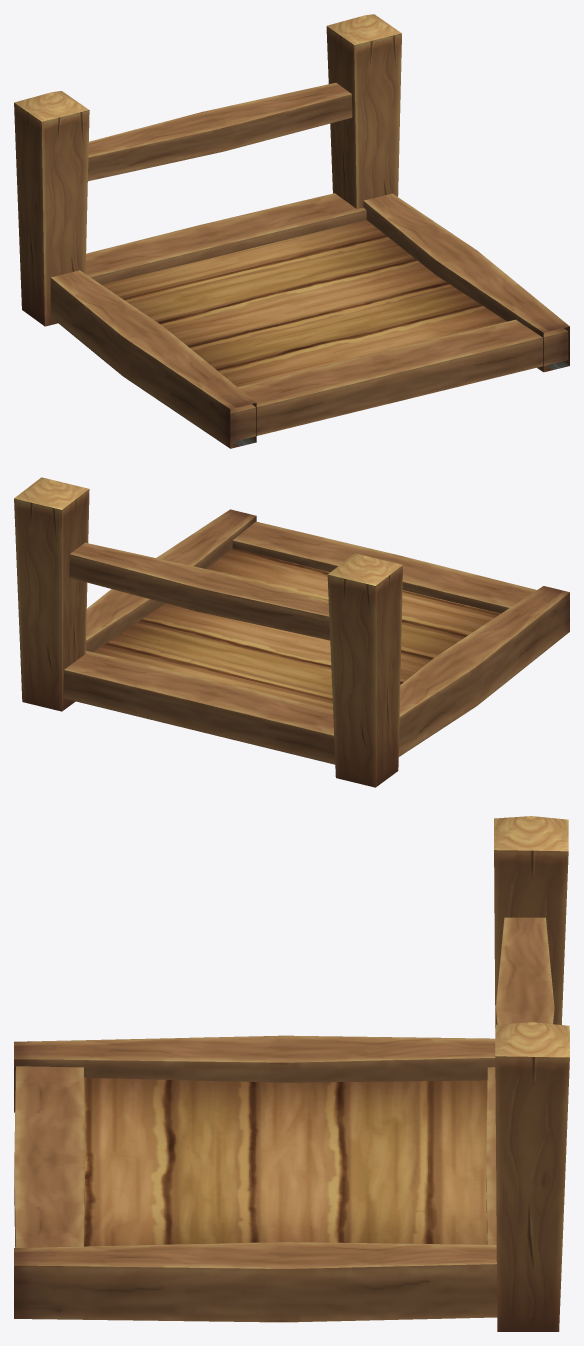
File: bridge_02_tile_07.fbx
3 views of the same model, one above another, from view 1: azimuth 30°, elevation 25°; view 2: azimuth 150°, elevation 25°; view 3: azimuth 270°, elevation 25° (orthographic). The views are drawn at different scales.
Visible parts, largest first — view 1: bridge_02_tile_07; view 2: bridge_02_tile_07; view 3: bridge_02_tile_07.
Part boxes in pixels (x1,y1,x2,y2): bridge_02_tile_07: [14, 14, 569, 448]; bridge_02_tile_07: [14, 477, 569, 787]; bridge_02_tile_07: [14, 816, 569, 1331].
Size of the model in its own units: 2.05 by 1.19 by 2.03.
